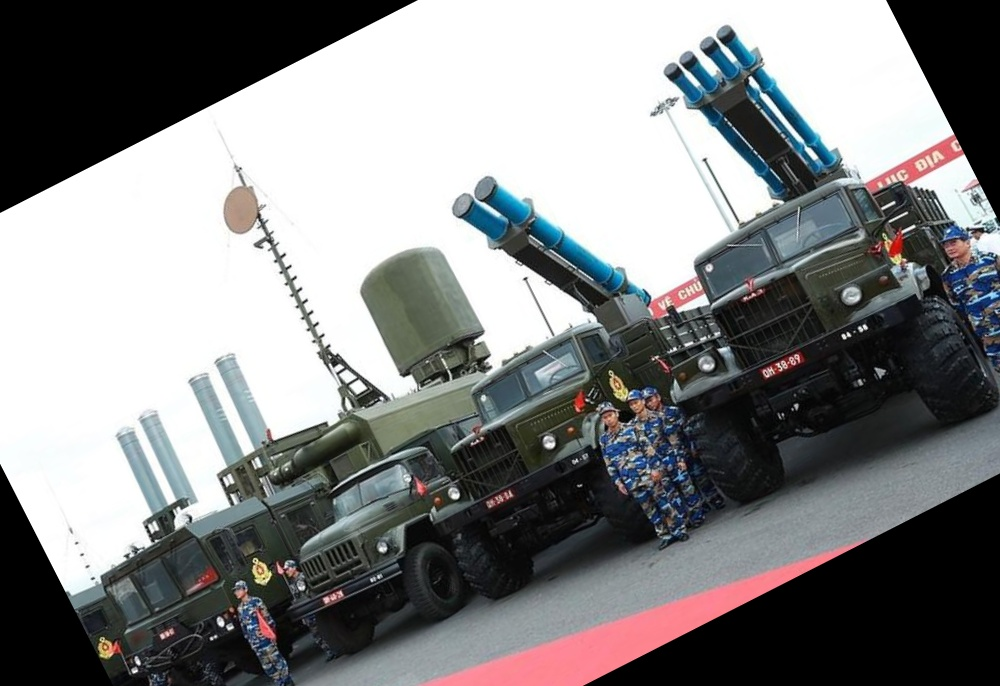plate: (760, 350, 804, 383), (481, 483, 517, 513), (313, 585, 350, 608), (155, 624, 175, 641)
